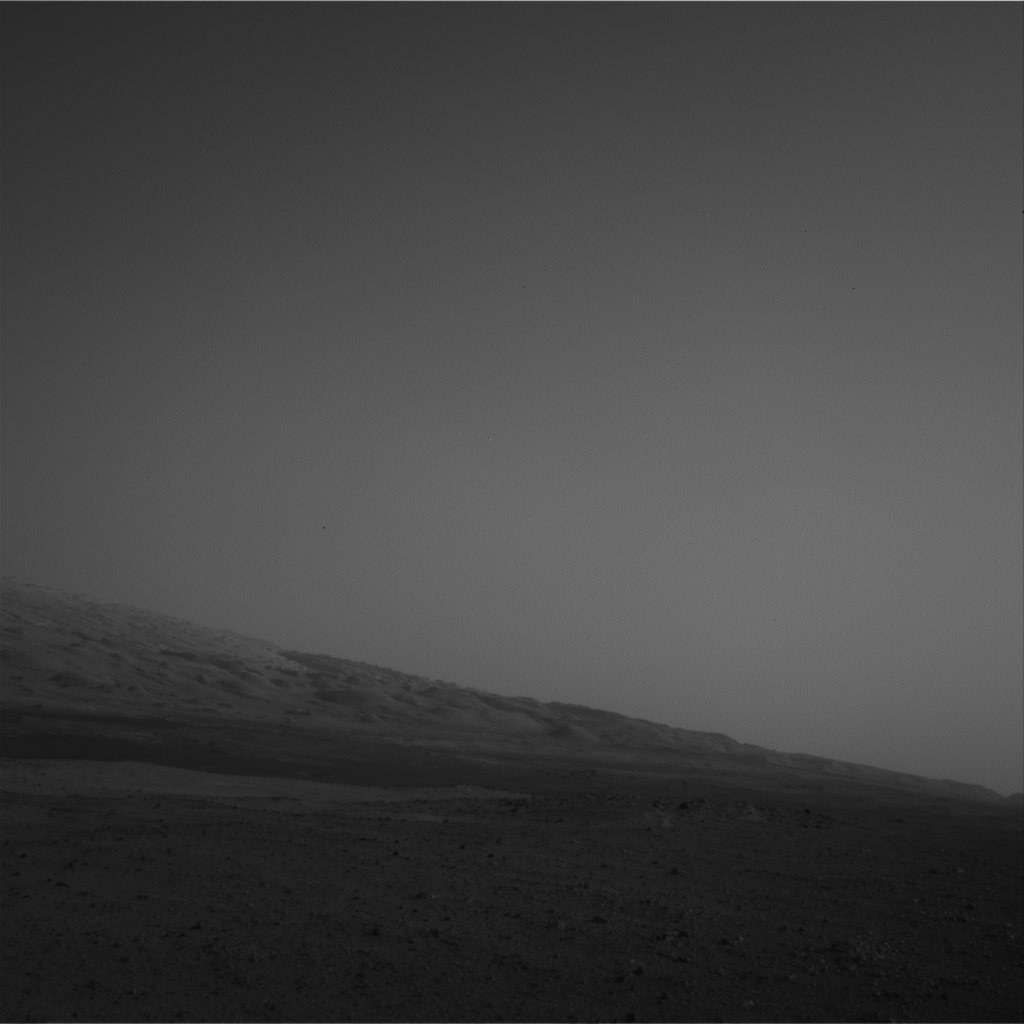soil: (5, 822, 1018, 1021)
